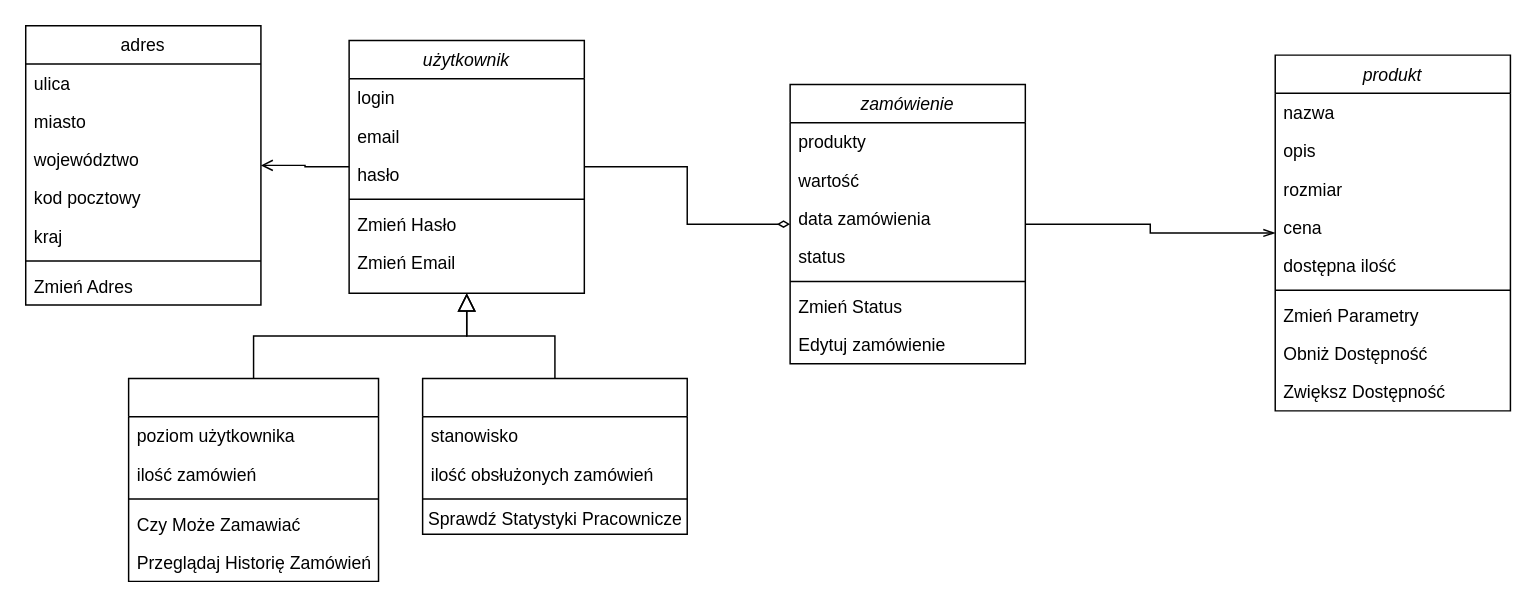
This 1536x612 diagram has some shape labels left out. The shapes that lost their labels are listed below. From the top down, each one's box as (x1, y1, x2, y2) in pixels, then its label:
(421, 377, 687, 534): pracownik
(127, 377, 379, 581): klient
